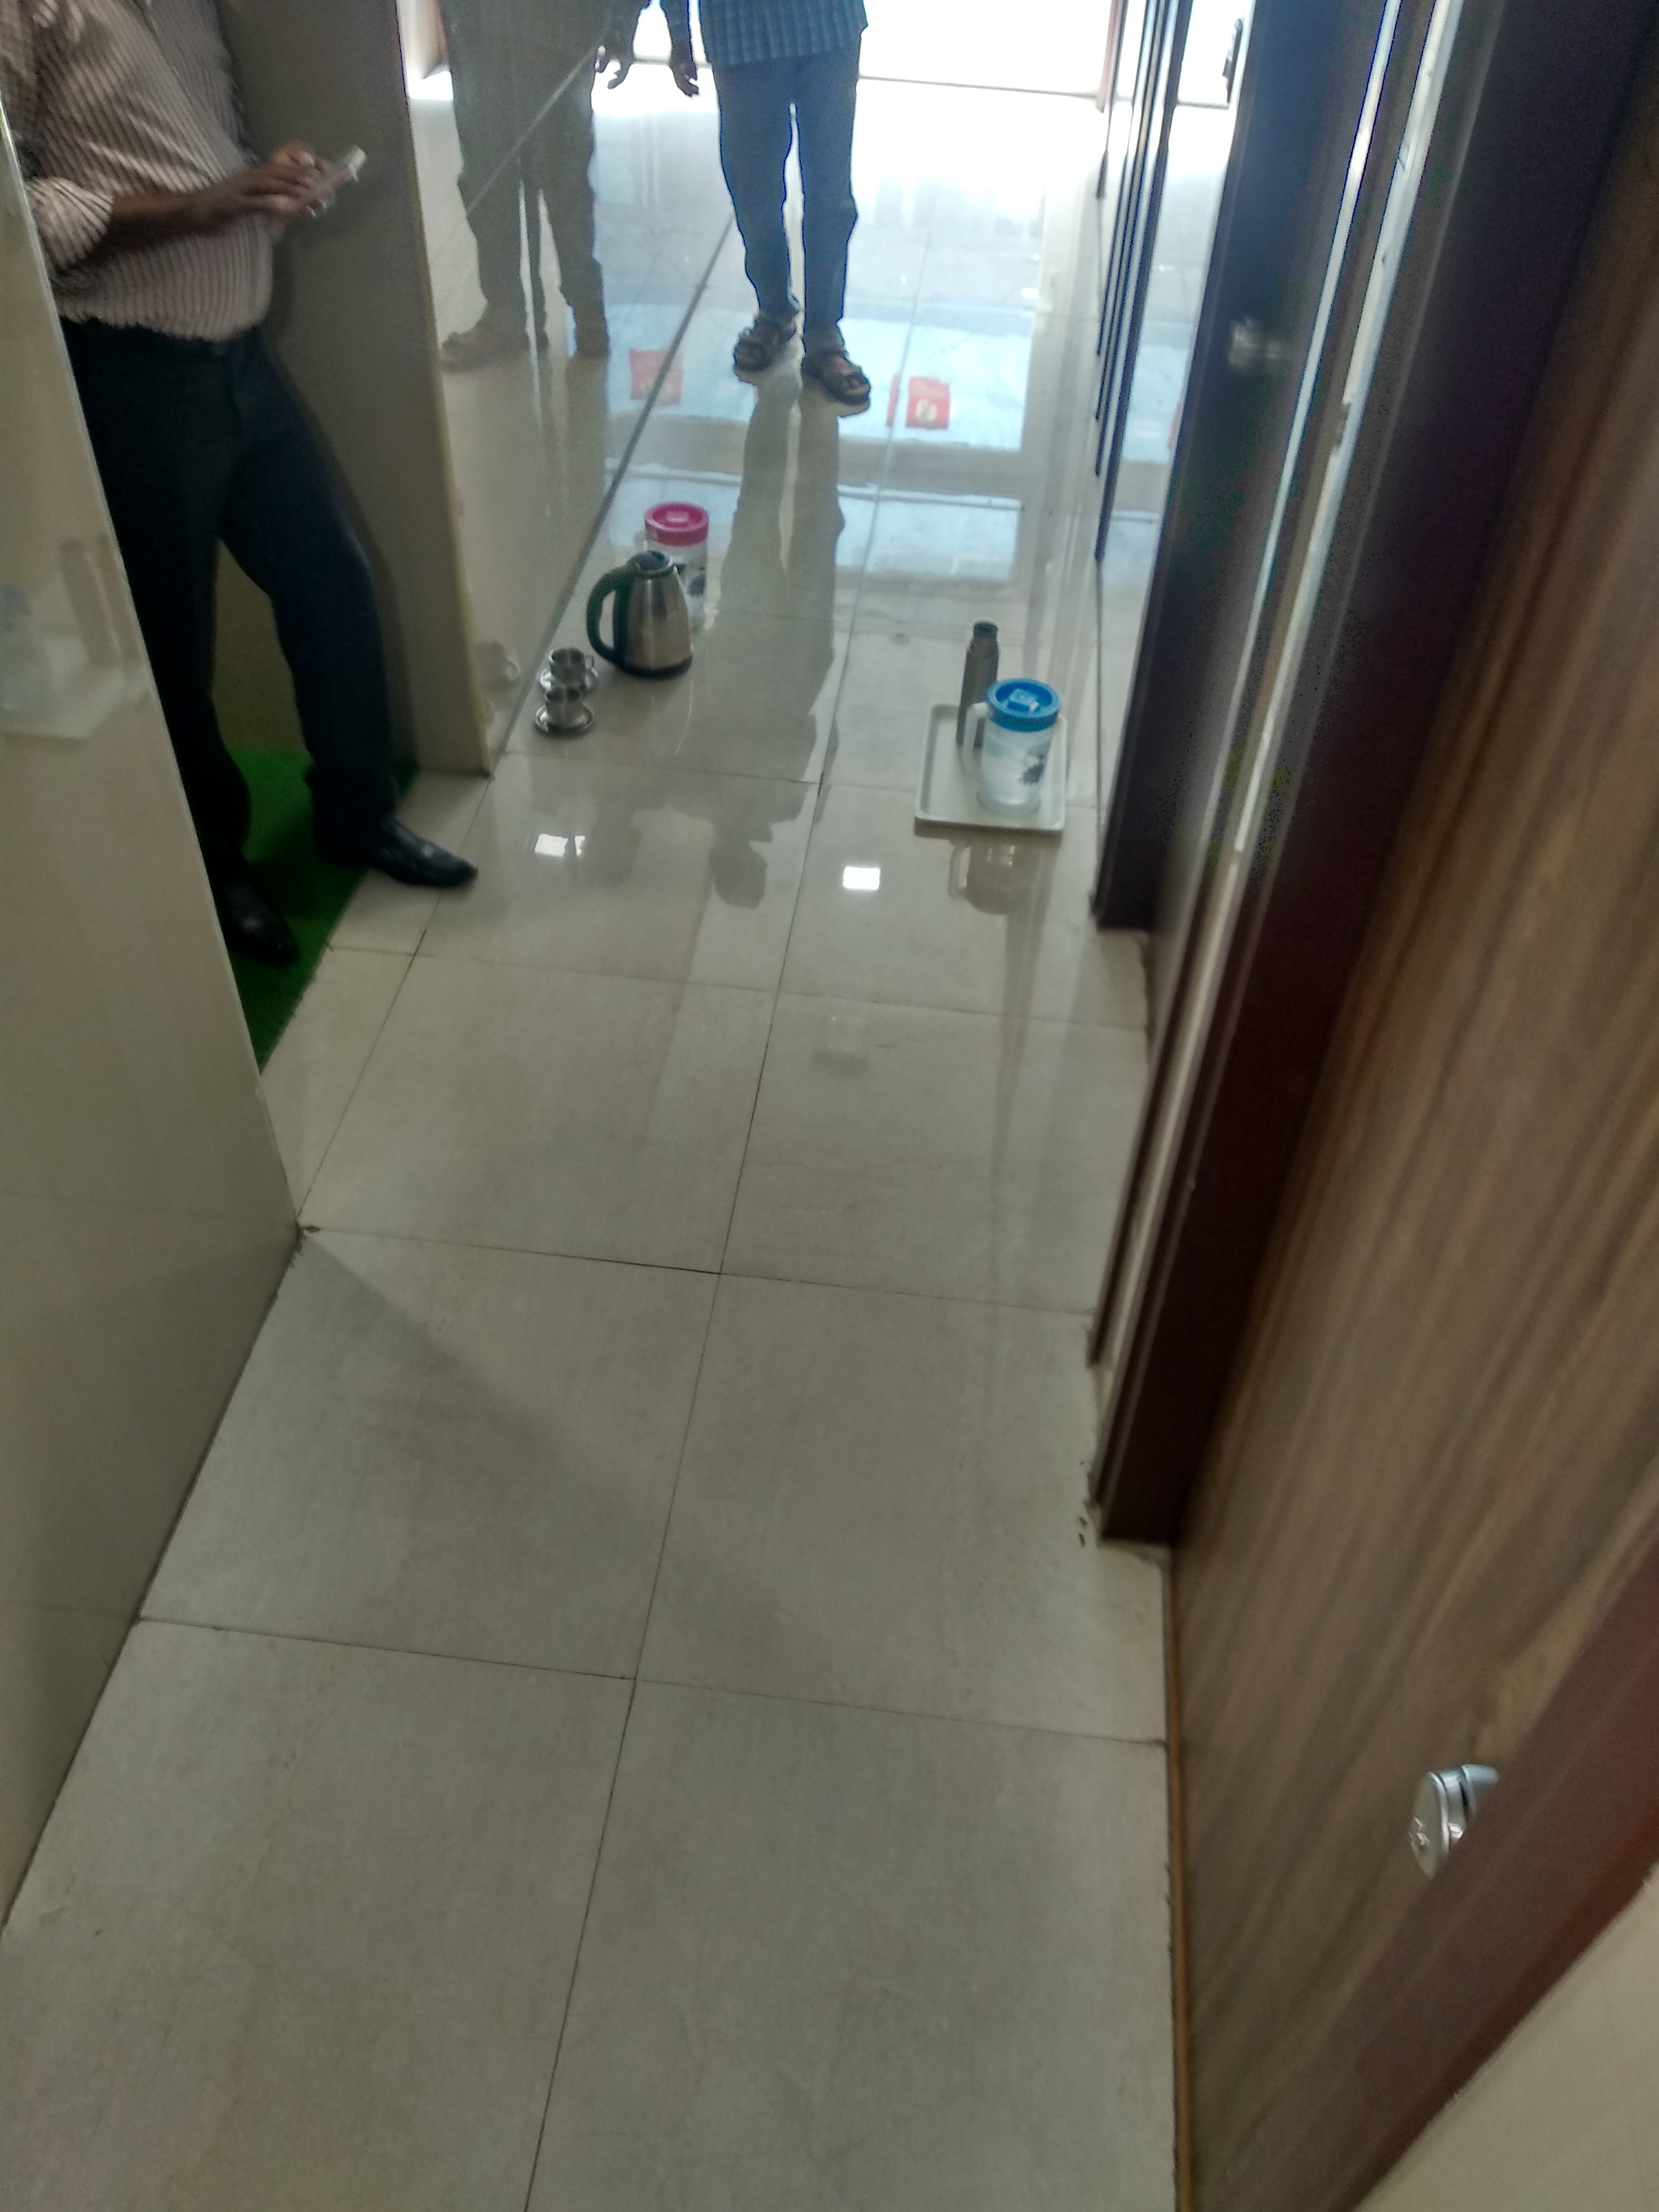CUP: (530, 681, 601, 735), (540, 637, 596, 685)
FLASK: (955, 608, 1002, 693)
JUG: (582, 538, 708, 691), (962, 664, 1065, 826), (631, 486, 720, 580)
